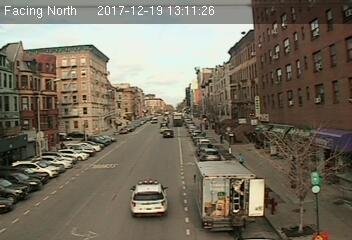car: (200, 147, 223, 161), (163, 128, 175, 137)
police: (128, 178, 171, 219)
truck: (196, 160, 254, 232)
